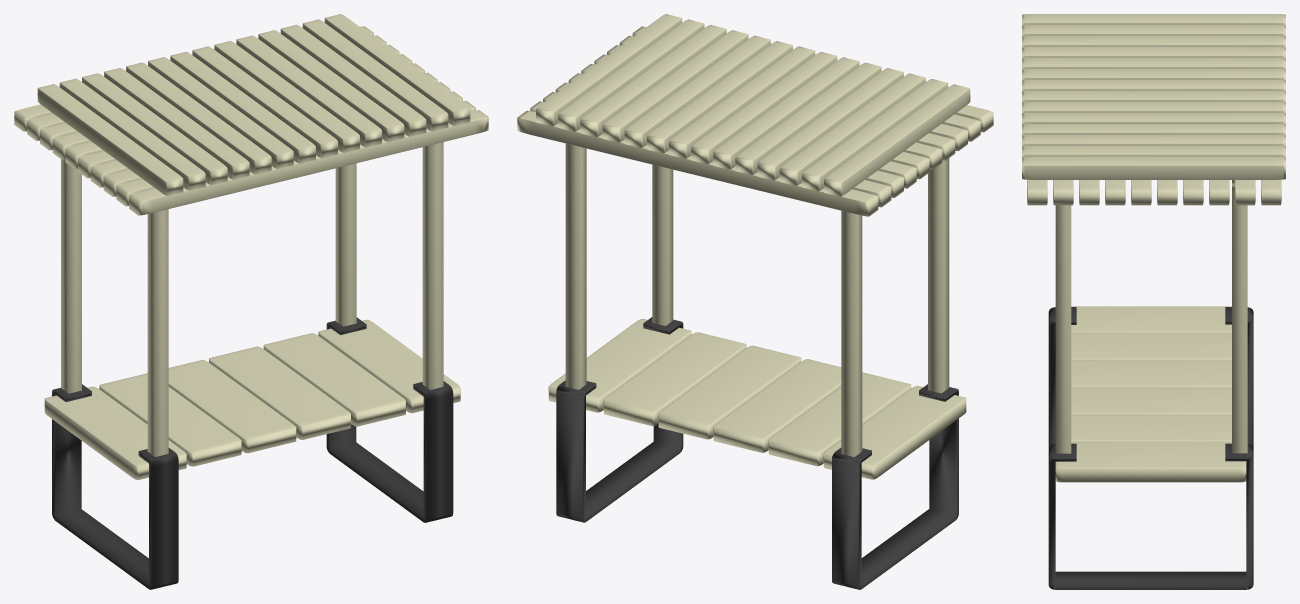
The model's file is ZONADEENTREGA_V2.fbx.
3 views of the same model, side by side, from view 1: azimuth 30°, elevation 25°; view 2: azimuth 150°, elevation 25°; view 3: azimuth 270°, elevation 25° (orthographic).
Parts seen in each view (by area): view 1: Cube.008, Cube.002, Cube; view 2: Cube.008, Cube.002, Cube; view 3: Cube.008, Cube.002, Cube.
Boxes of the visible parts, box(x1,y1,x2,y2) form: Cube.008: box(14, 14, 488, 215); Cube.002: box(44, 317, 460, 589); Cube: box(61, 142, 443, 456); Cube.008: box(517, 14, 993, 216); Cube.002: box(548, 317, 966, 589); Cube: box(565, 143, 949, 457); Cube.008: box(1022, 14, 1285, 205); Cube.002: box(1048, 306, 1253, 589); Cube: box(1055, 180, 1247, 453).
Size of the model in its own units: 433 by 494 by 277.
